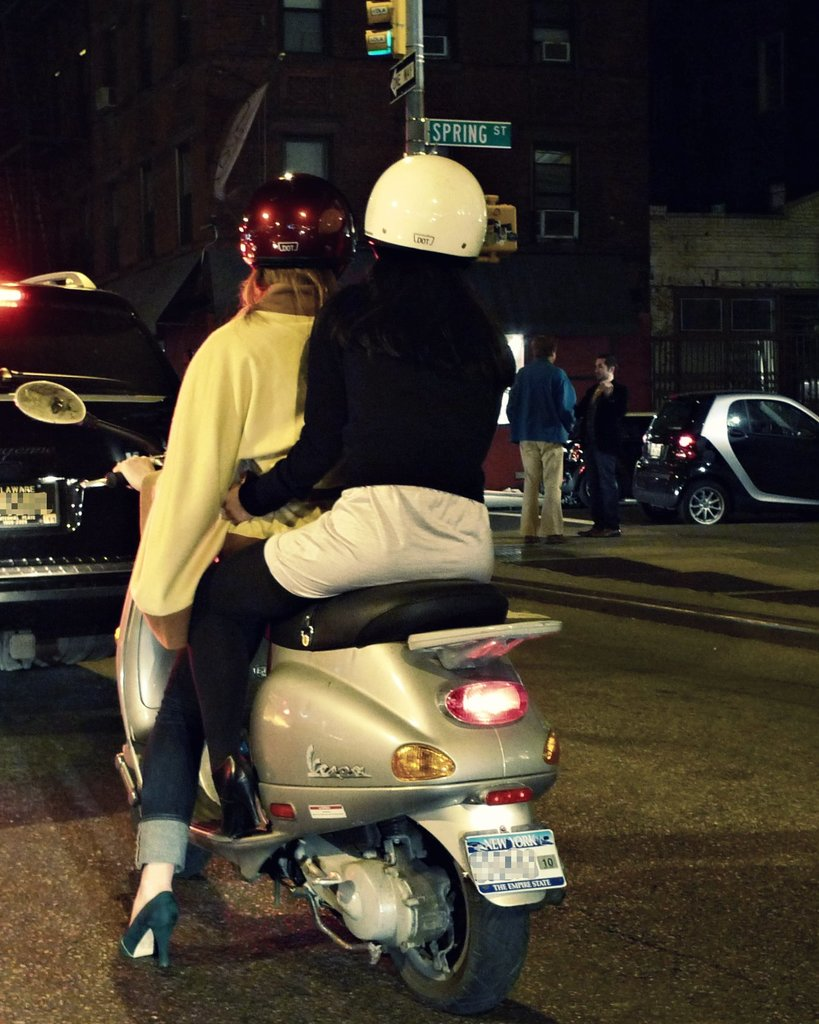Car: (0, 263, 177, 684), (649, 381, 802, 522), (539, 412, 651, 506)
